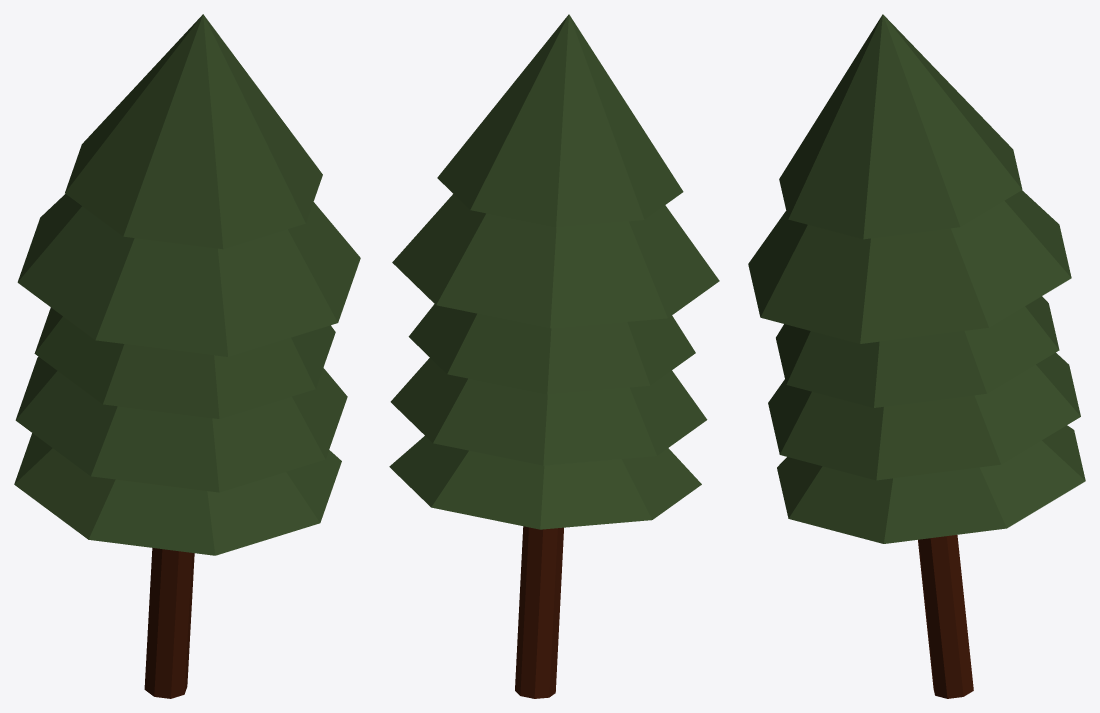
File: agac2.fbx
The picture shows the model from 3 angles, left to right: view 1: azimuth 30°, elevation 25°; view 2: azimuth 150°, elevation 25°; view 3: azimuth 270°, elevation 25°; orthographic projection. The views are drawn at different scales.
Parts seen in each view (by area): view 1: Circle; view 2: Circle; view 3: Circle.
Boxes of the visible parts, bbox=[...] form: Circle: bbox=[14, 14, 360, 698]; Circle: bbox=[389, 14, 719, 698]; Circle: bbox=[748, 14, 1085, 698].
Size of the model in its own units: 0.7762 by 1.79 by 0.8065.
